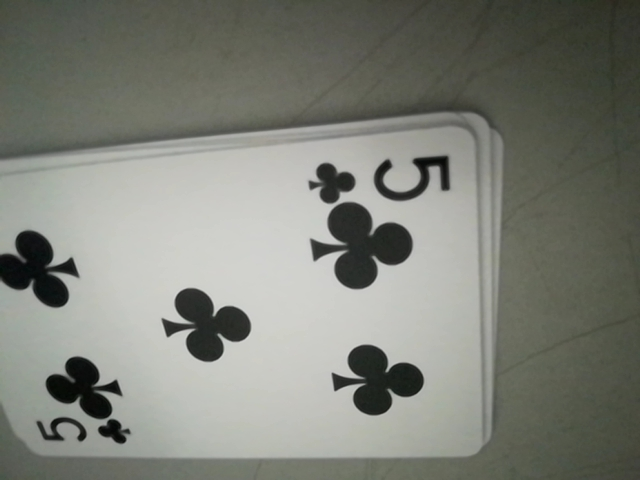mh 5: (303, 146, 456, 206), (29, 412, 130, 454)
